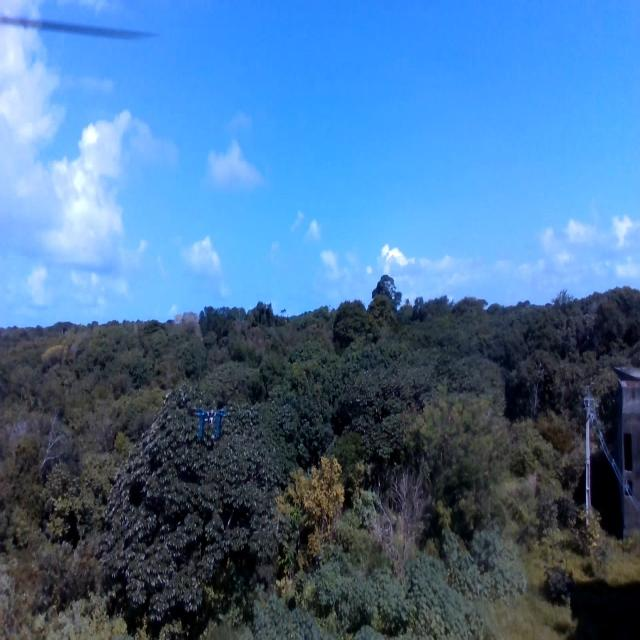-uav-: (185, 392, 239, 458)
